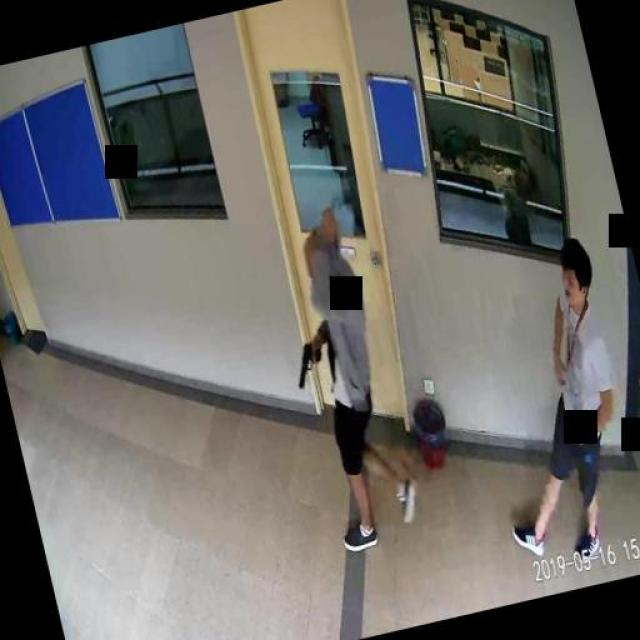gun: (288, 336, 328, 390)
